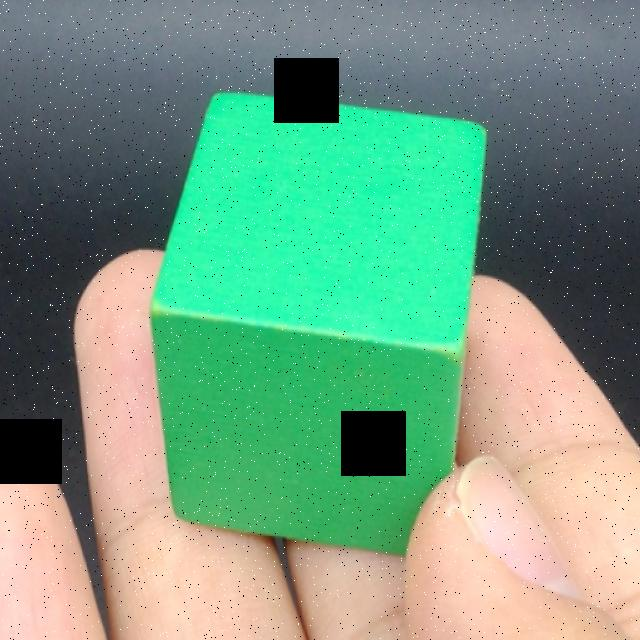green cube: (149, 92, 488, 555)
